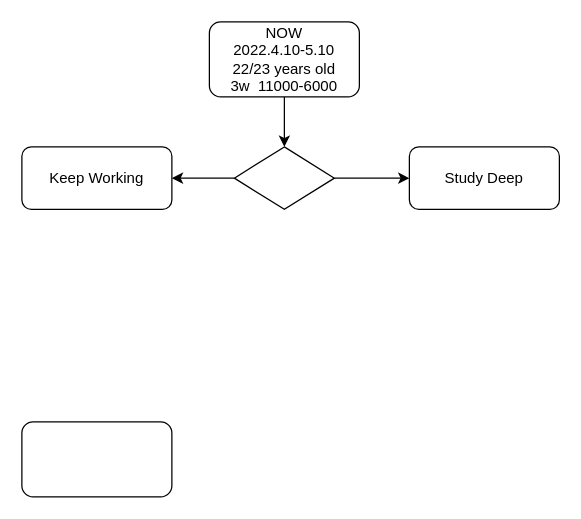
This 581x519 diagram has some shape labels left out. Here are the shapes that lost their labels. From the top down, the box of each, then its label:
(233, 146, 334, 209): M.C. To.3.
(21, 421, 172, 497): 26/27 About 25w
